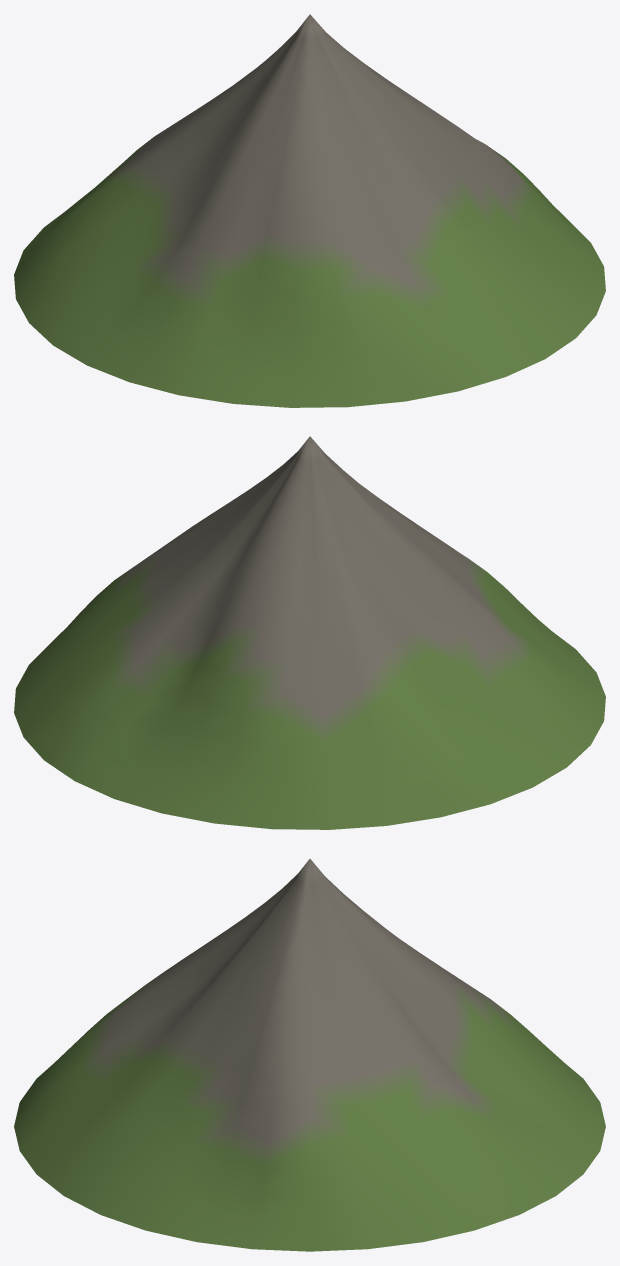
The model's file is mountain-a.glb.
3 renders of one model, top to bottom at view 1: azimuth 30°, elevation 25°; view 2: azimuth 150°, elevation 25°; view 3: azimuth 270°, elevation 25°, orthographic.
Visible parts, largest first — view 1: body; view 2: body; view 3: body.
Part boxes in pixels (x1,y1,x2,y2): body: (14,14,605,407); body: (14,436,605,829); body: (14,859,605,1251).
Bounding box in the file's own units: 2 × 1 × 2.
